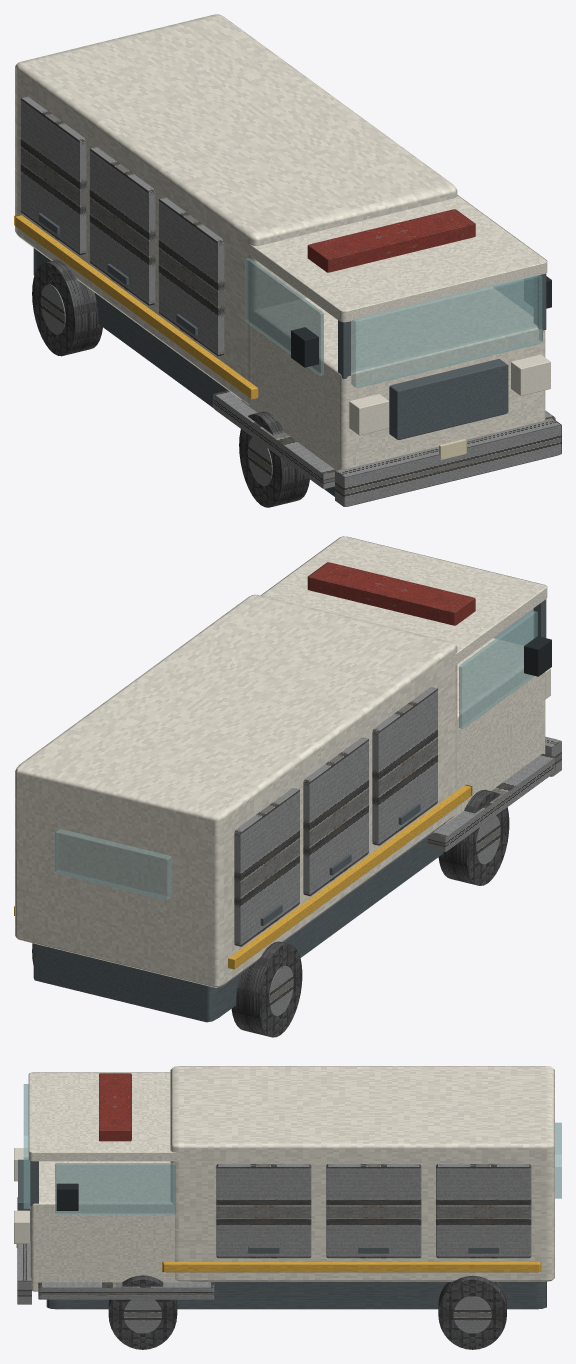
Rendered from ambulance.glb.
3 views of the same model, one above another, from view 1: azimuth 30°, elevation 25°; view 2: azimuth 150°, elevation 25°; view 3: azimuth 270°, elevation 25° (orthographic). The views are drawn at different scales.
Visible parts, largest first — view 1: body, cab, locker (×3), cab-roof, windshield, bumper, tyre (×2), grille, lightbar, cab-glass (×2), reflective, chassis (+5 smaller); view 2: body, locker (×3), cab-roof, chassis, cab, tyre (×2), rear-windscreen, lightbar, cab-glass, reflective, running-board, rim (×2) (+2 smaller); view 3: body, locker (×3), cab, cab-roof, chassis, cab-glass, tyre (×2), reflective, running-board, rim (×2), lightbar, bumper (+6 smaller).
Boxes of the visible parts, x1=… form: body: x1=15, y1=14, x2=457, y2=404; cab: x1=241, y1=287, x2=545, y2=470; locker (×3): x1=20, y1=96, x2=224, y2=356; cab-roof: x1=241, y1=195, x2=547, y2=322; windshield: x1=351, y1=274, x2=542, y2=387; bumper: x1=335, y1=418, x2=561, y2=506; tyre (×2): x1=32, y1=260, x2=309, y2=507; grille: x1=389, y1=359, x2=508, y2=439; lightbar: x1=307, y1=209, x2=475, y2=272; cab-glass (×2): x1=245, y1=258, x2=532, y2=375; reflective: x1=14, y1=214, x2=258, y2=399; chassis: x1=33, y1=248, x2=334, y2=496; body: x1=15, y1=594, x2=457, y2=987; locker (×3): x1=234, y1=687, x2=437, y2=946; cab-roof: x1=261, y1=536, x2=547, y2=669; chassis: x1=33, y1=836, x2=443, y2=1022; cab: x1=445, y1=638, x2=545, y2=823; tyre (×2): x1=231, y1=790, x2=509, y2=1037; rear-windscreen: x1=54, y1=829, x2=171, y2=899; lightbar: x1=307, y1=562, x2=475, y2=625; cab-glass: x1=459, y1=611, x2=537, y2=728; reflective: x1=228, y1=784, x2=472, y2=969; running-board: x1=427, y1=754, x2=555, y2=851; rim (×2): x1=268, y1=816, x2=500, y2=1015; body: x1=170, y1=1066, x2=554, y2=1281; locker (×3): x1=216, y1=1164, x2=531, y2=1258; cab: x1=30, y1=1161, x2=191, y2=1291; cab-roof: x1=28, y1=1072, x2=189, y2=1161; chassis: x1=46, y1=1281, x2=546, y2=1309; cab-glass: x1=55, y1=1163, x2=175, y2=1214; tyre (×2): x1=108, y1=1275, x2=506, y2=1349; reflective: x1=162, y1=1262, x2=541, y2=1272; running-board: x1=38, y1=1282, x2=214, y2=1299; rim (×2): x1=123, y1=1296, x2=491, y2=1333; lightbar: x1=99, y1=1073, x2=131, y2=1141; bumper: x1=17, y1=1197, x2=31, y2=1304.
Bounding box in the file's own units: 2.74 × 2.7 × 6.58.
10 materials, 10 textured.
